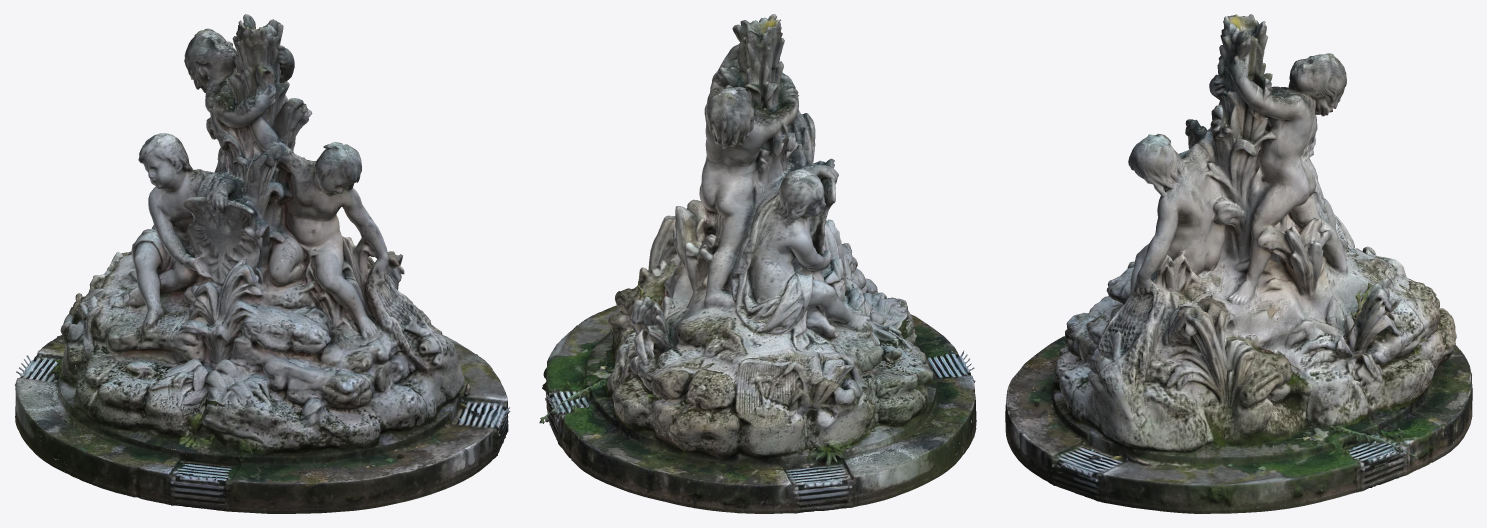
The model's file is sf_fountain.glb.
The picture shows the model from 3 angles, left to right: view 1: azimuth 30°, elevation 25°; view 2: azimuth 150°, elevation 25°; view 3: azimuth 270°, elevation 25°; orthographic projection.
Parts seen in each view (by area): view 1: kasna_luzanky_kasna_luzanky_0 (×2); view 2: kasna_luzanky_kasna_luzanky_0 (×2); view 3: kasna_luzanky_kasna_luzanky_0 (×2).
Part boxes in pixels (<box>): kasna_luzanky_kasna_luzanky_0 (×2): <box>15,14,510,513</box>; kasna_luzanky_kasna_luzanky_0 (×2): <box>539,14,976,513</box>; kasna_luzanky_kasna_luzanky_0 (×2): <box>1005,14,1472,513</box>.
Bounding box in the file's own units: 3.25 × 3.05 × 3.26.
Materials: 1 (1 with a texture image).
